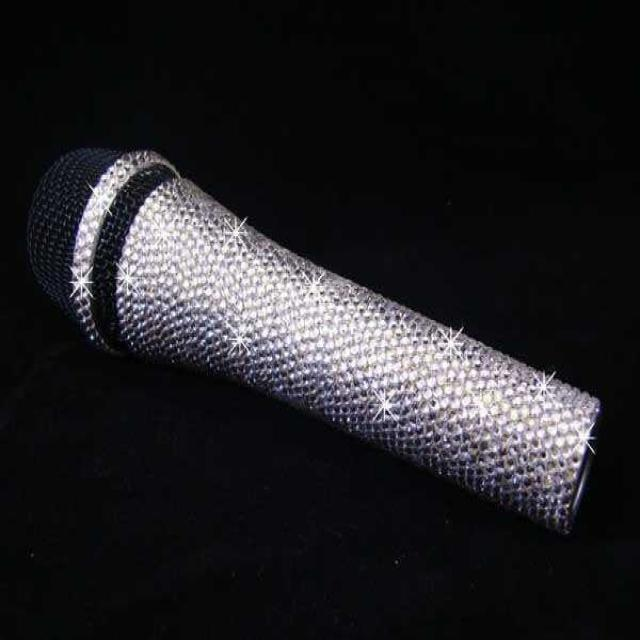microphone: (28, 148, 603, 538)
